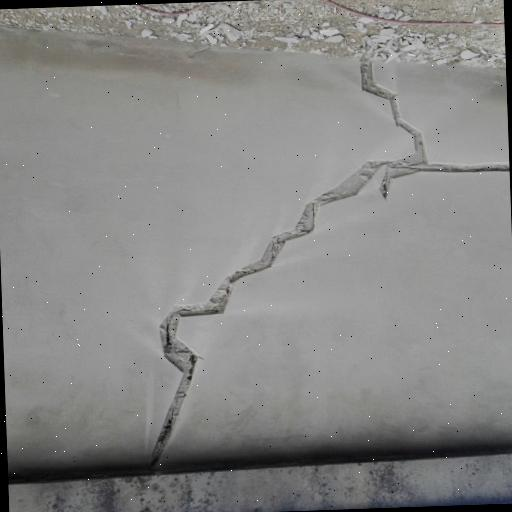spalling: (137, 63, 503, 460)
